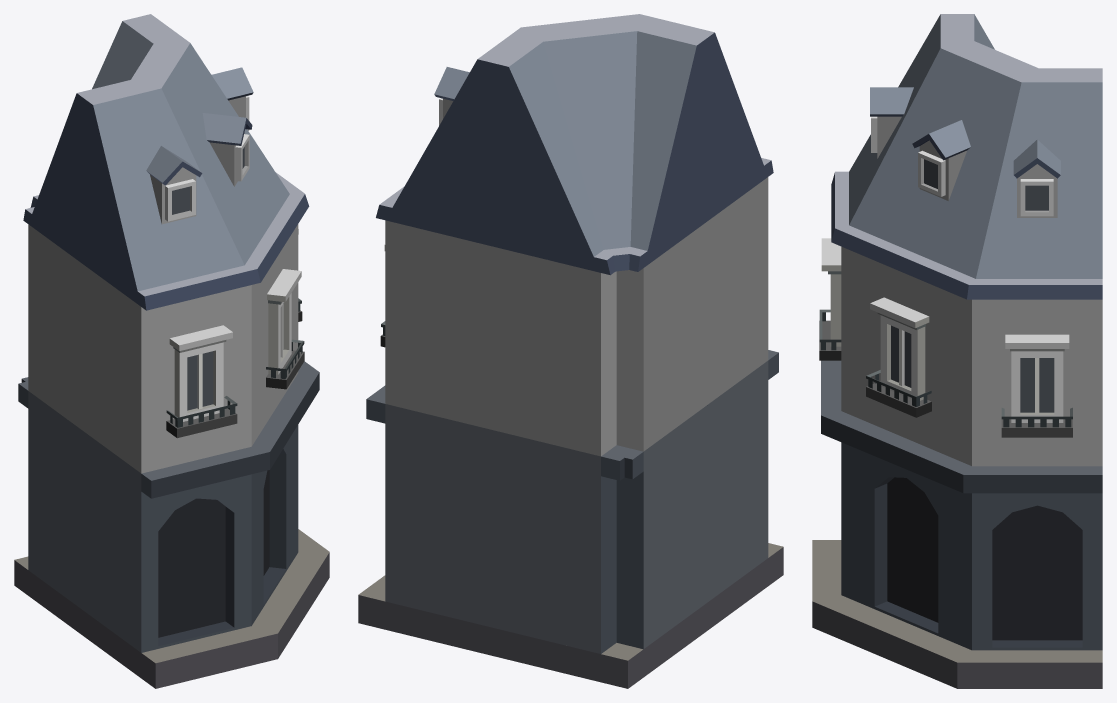
Rendered from TB_CITY_BD_N_RCorner_2_A.FBX.
3 renders of one model, left to right at view 1: azimuth 30°, elevation 25°; view 2: azimuth 150°, elevation 25°; view 3: azimuth 270°, elevation 25°, orthographic. The views are drawn at different scales.
Visible parts, largest first — view 1: TB_CITY_BD_N_RCorner_2_A; view 2: TB_CITY_BD_N_RCorner_2_A; view 3: TB_CITY_BD_N_RCorner_2_A.
Boxes of the visible parts, x1,y1,x2,y2 form: TB_CITY_BD_N_RCorner_2_A: (14, 14, 329, 688); TB_CITY_BD_N_RCorner_2_A: (358, 14, 783, 688); TB_CITY_BD_N_RCorner_2_A: (812, 14, 1102, 688).
Bounding box in the file's own units: 7.99 × 16.78 × 7.99.
